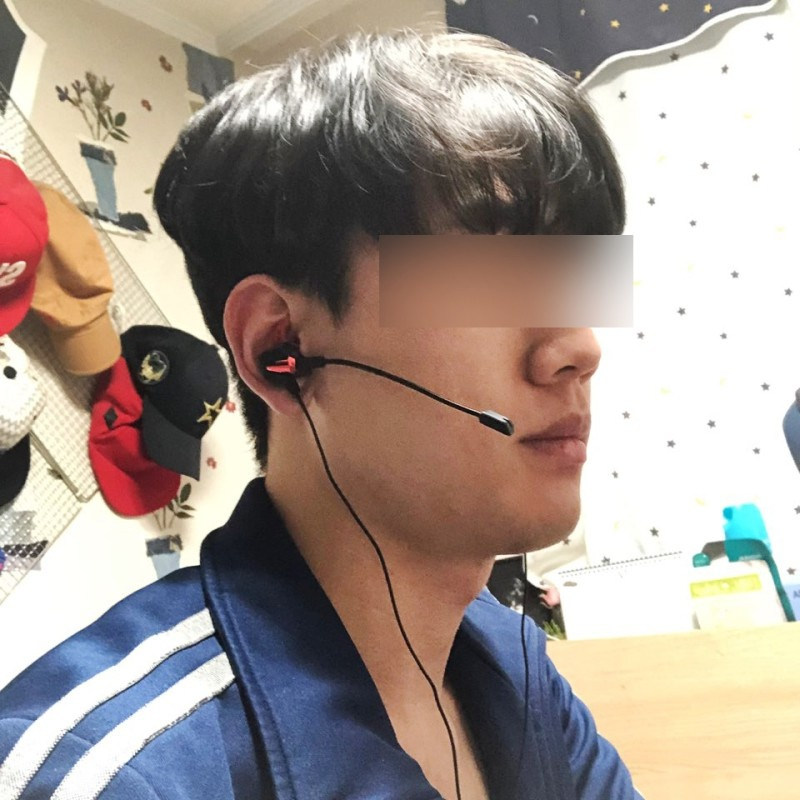earphone: (223, 273, 315, 416)
